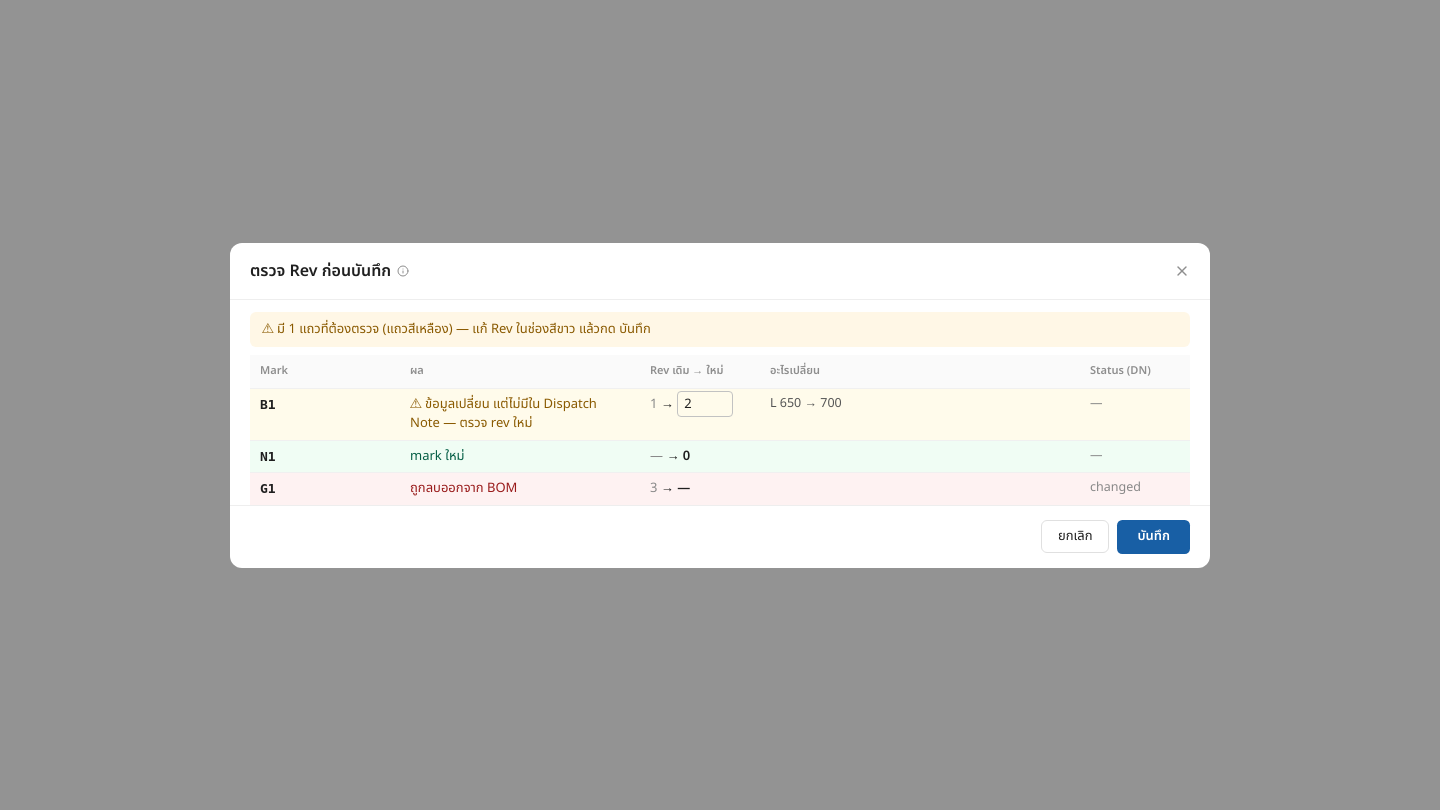
Test: RevReviewDialog › changed data with the rev left at the current one is blocked (same rule as the server)
Step 1. Replace the text in the field named "Rev ใหม่ของ B1" with "1" → (705, 404), box x1=677 y1=390 x2=733 y2=416
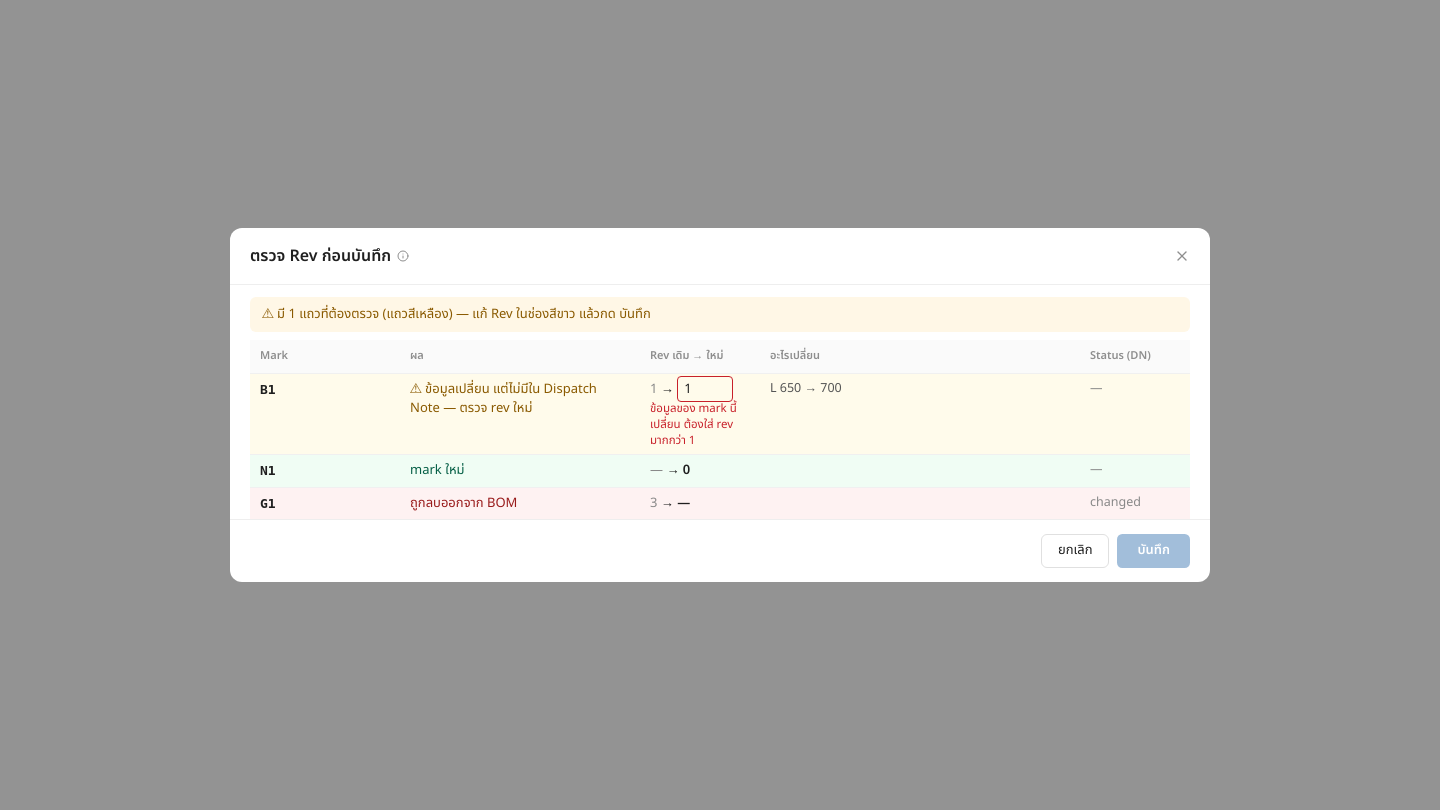
Result: the text "ข้อมูลของ mark นี้เปลี่ยน ต้องใส่ rev มากกว่า 1" is shown at x1=650 y1=402 x2=750 y2=448
Result: the button "บันทึก" is disabled at x1=1118 y1=534 x2=1190 y2=568
